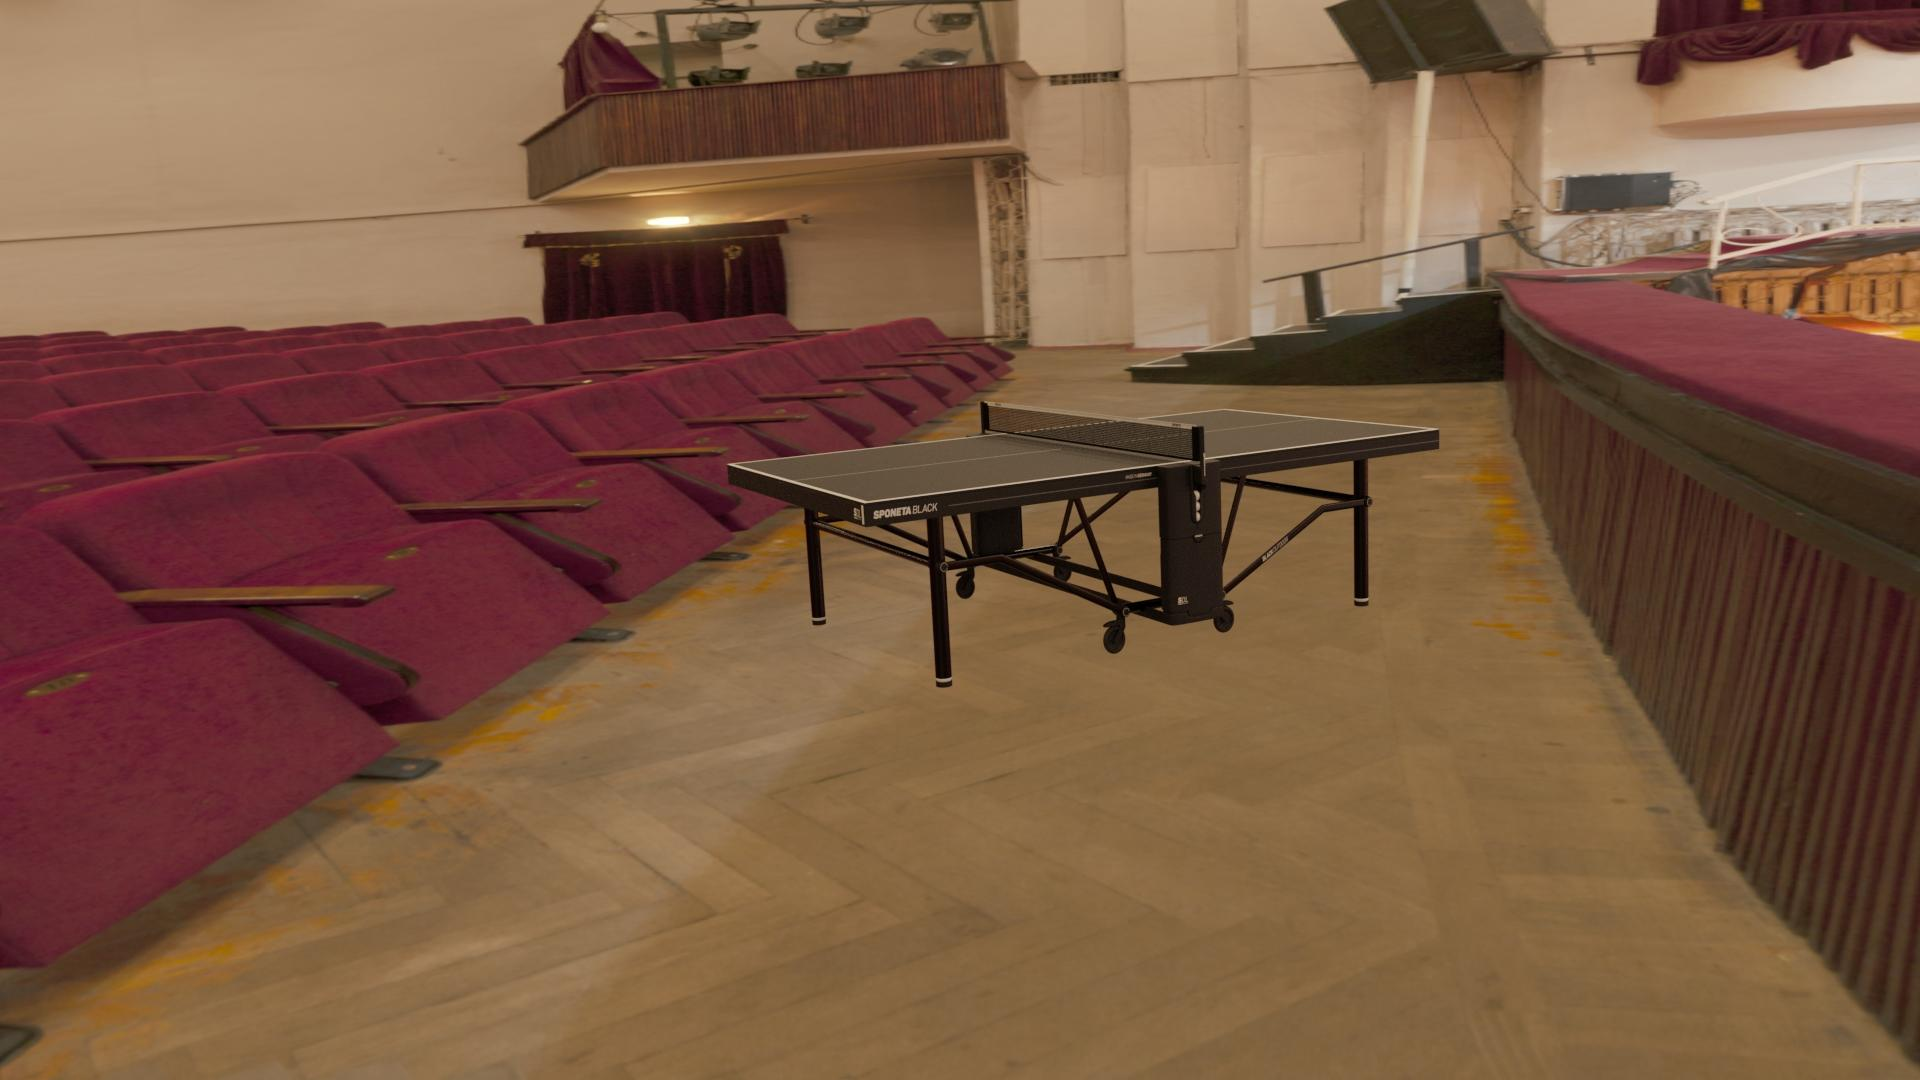table: (733, 410, 1432, 501)
